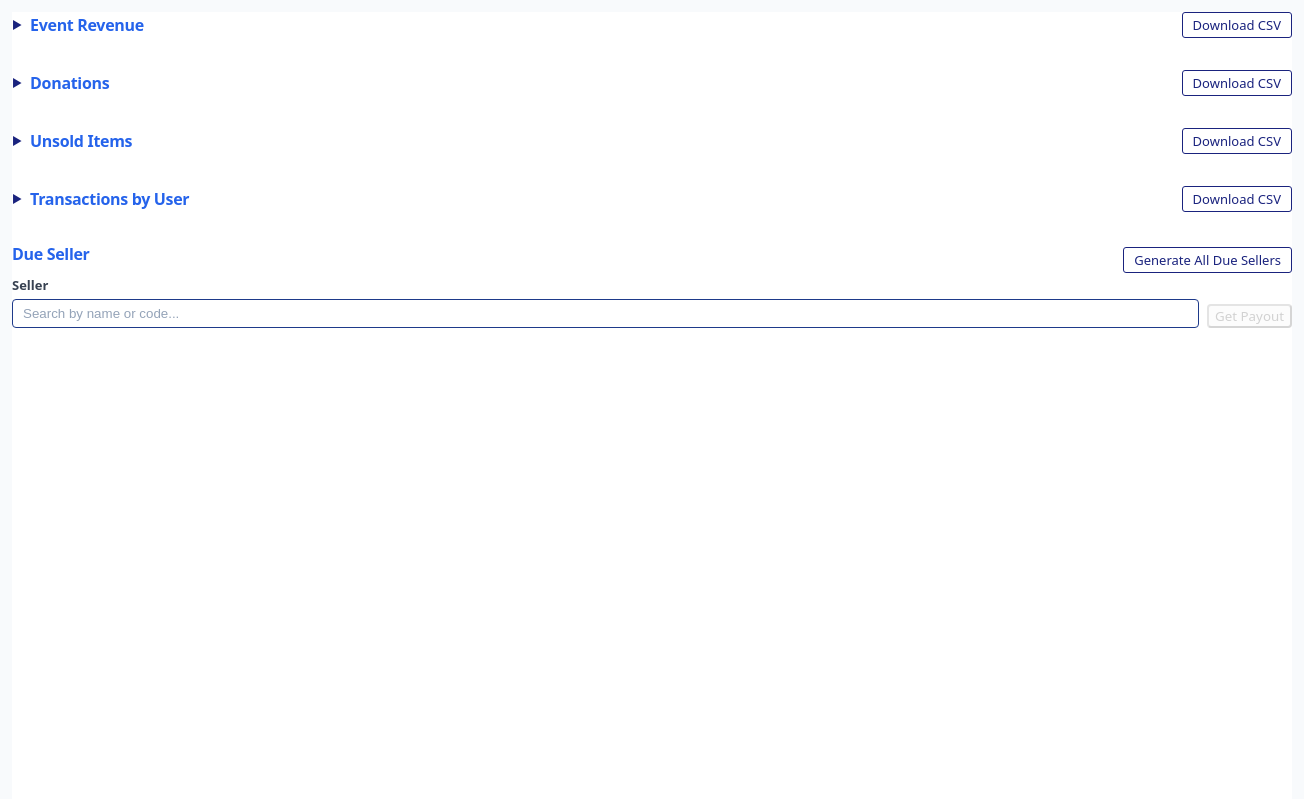
Test case: ReportsPage › shows payout and line items table when seller selected
Type "Jane" into the dropdown at point(606, 313), box [12, 298, 1199, 328]
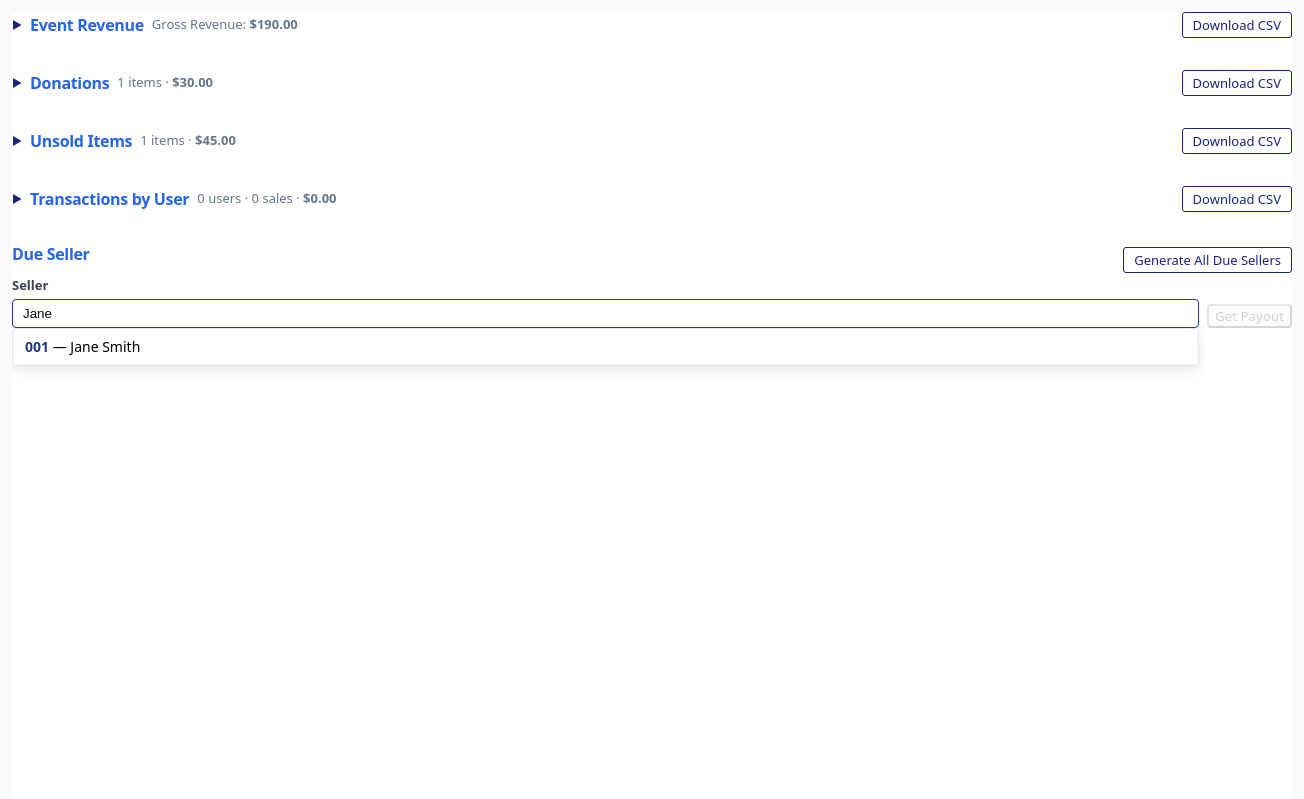
Expected: the button "001 — Jane Smith" is shown
Click the button "001 — Jane Smith" at point(121, 346), box [13, 328, 1198, 364]
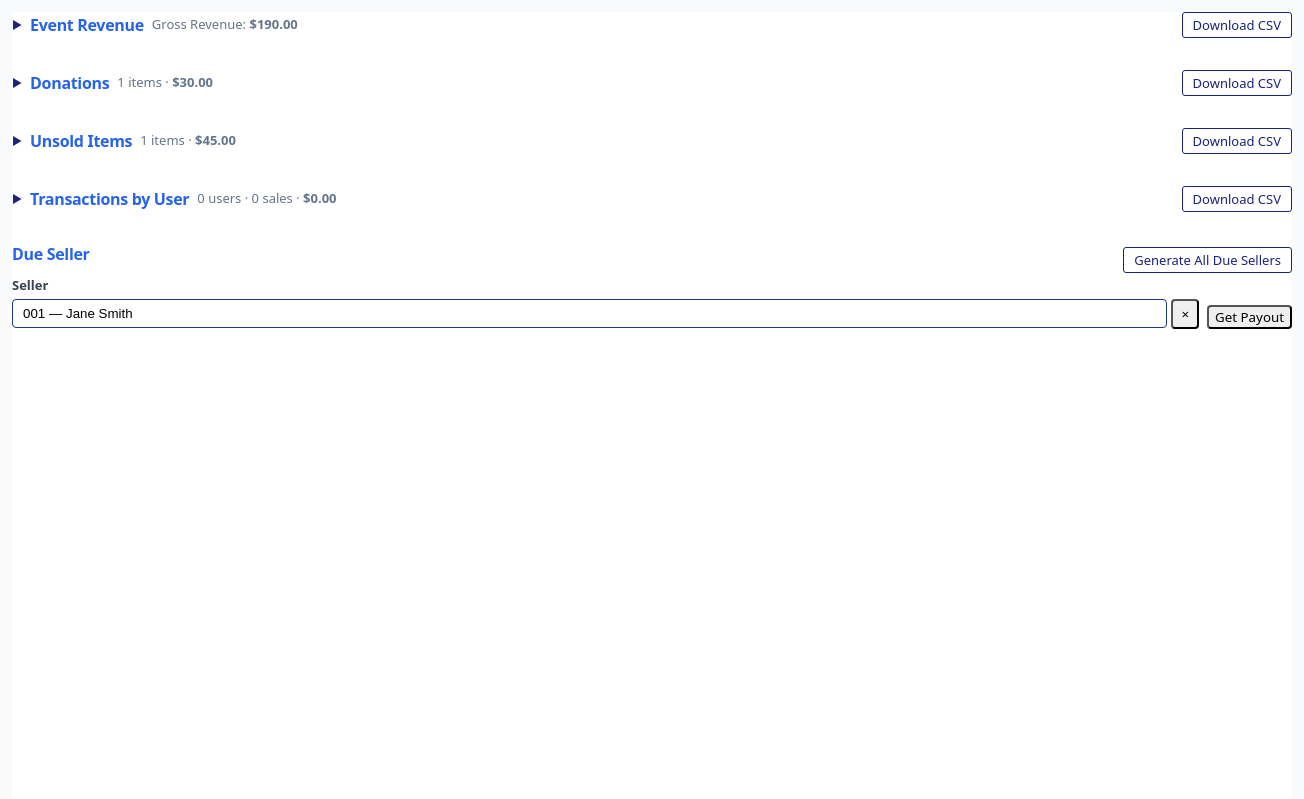
Expected: the button "Get Payout" is enabled, [1207, 304, 1292, 328]
Submit the form "Seller × Get Payout", box [12, 276, 1292, 328]
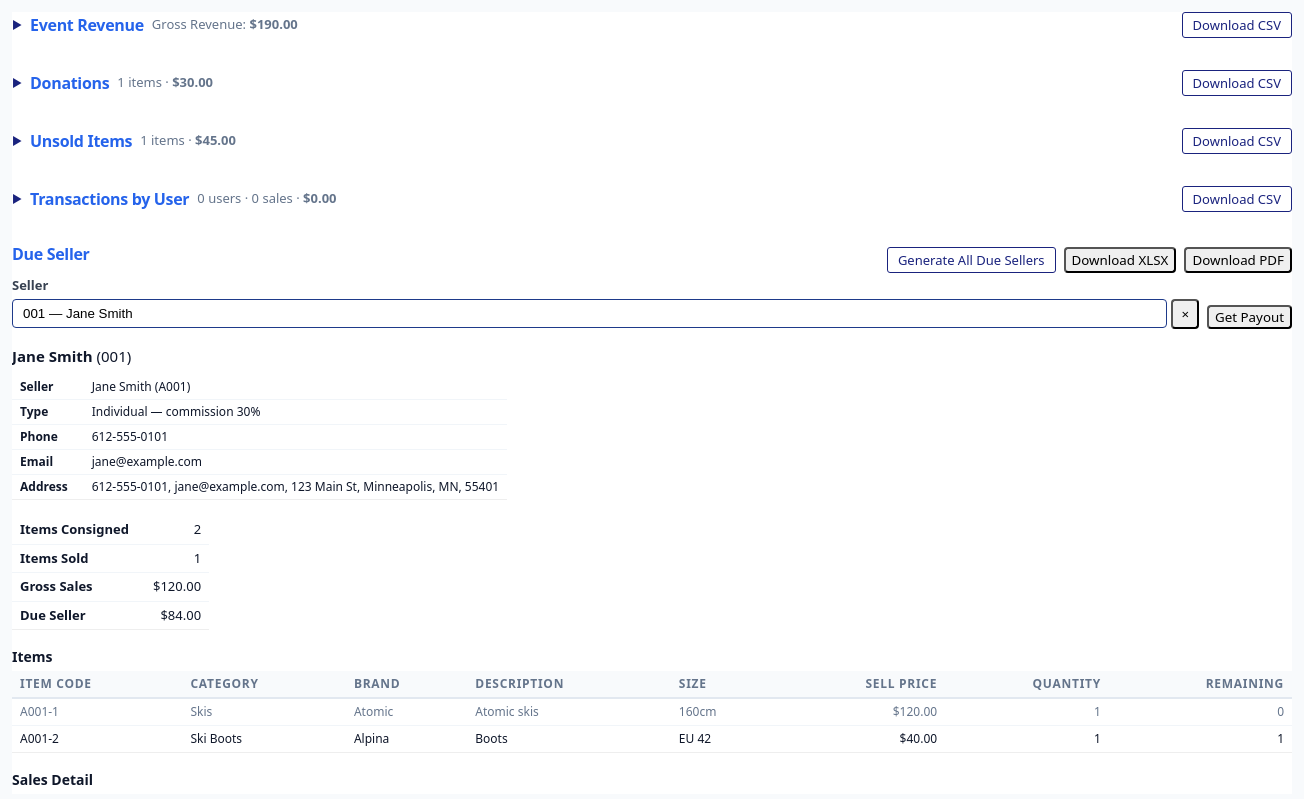
Expected: the text "Jane Smith" is shown, [12, 346, 93, 366]
Expected: the text "Atomic skis" is shown, [467, 698, 671, 726]
